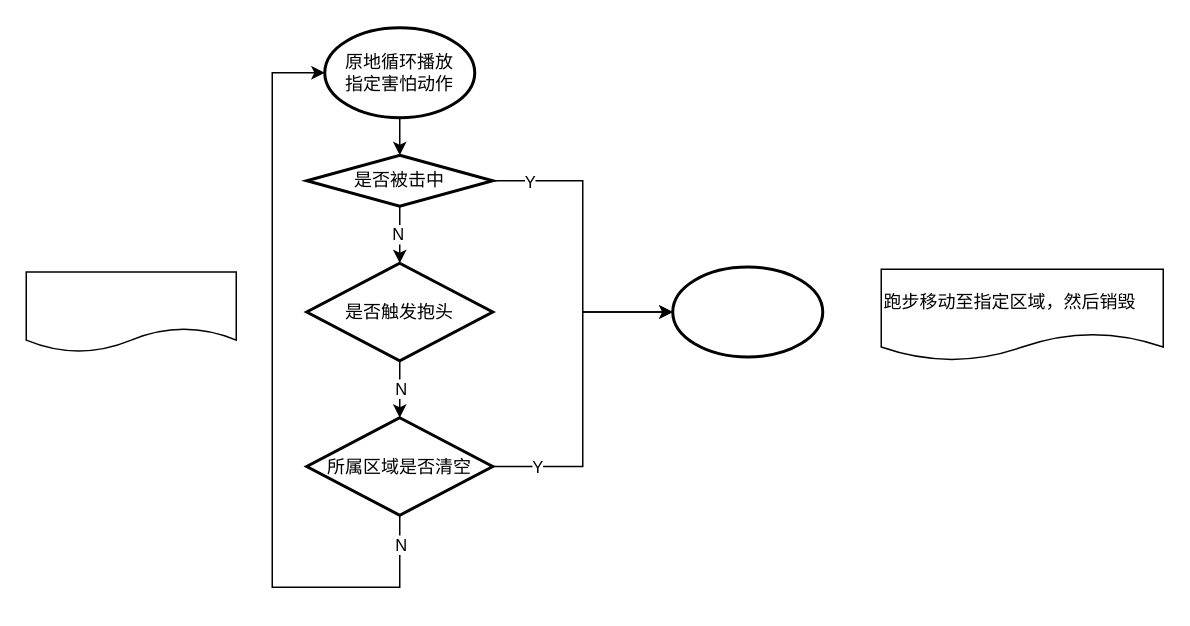
This 1190x626 diagram has some shape labels left out. Each missing label, with the centre of its shape:
"1.被瞄准 2.是否听到枪声" goes at point (130, 311).
"触发逃跑" goes at point (747, 311).
